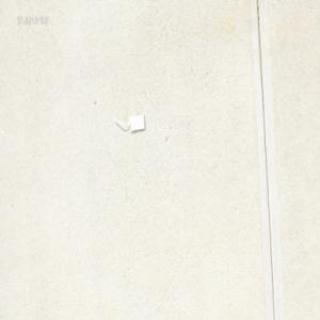LuggageTagtrack_idkeyframe: (112, 112, 145, 131)
